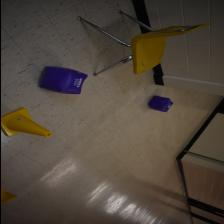cone: (0, 108, 52, 138), (0, 185, 17, 204)
cube: (38, 66, 88, 94), (146, 95, 173, 113)
